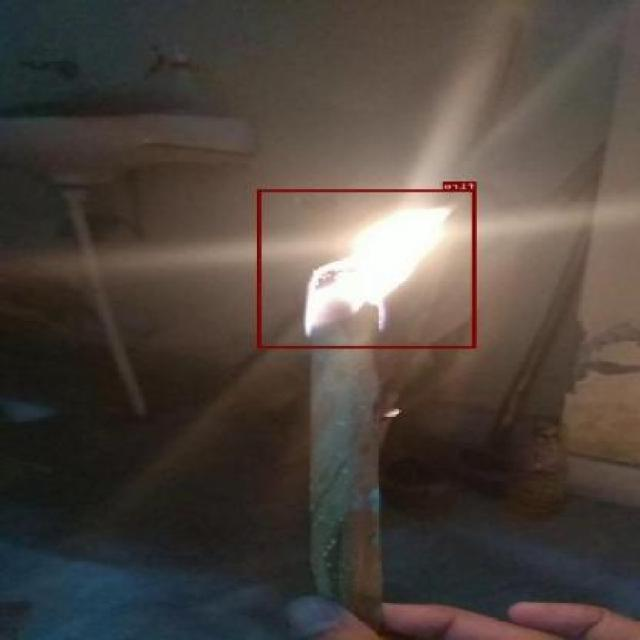Fire: (258, 189, 477, 348)
